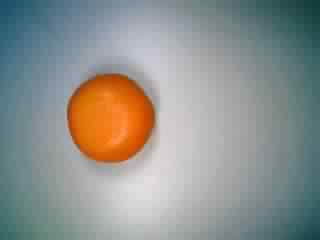orange: (60, 67, 157, 161)
